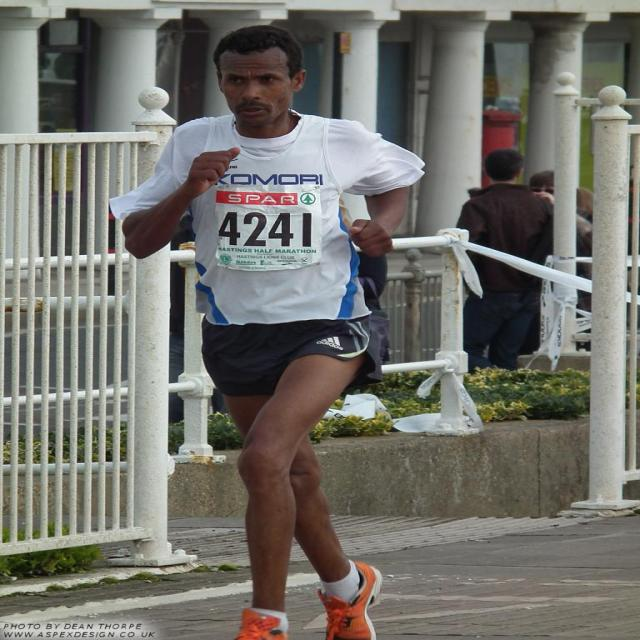Bib: (218, 211, 315, 252)
